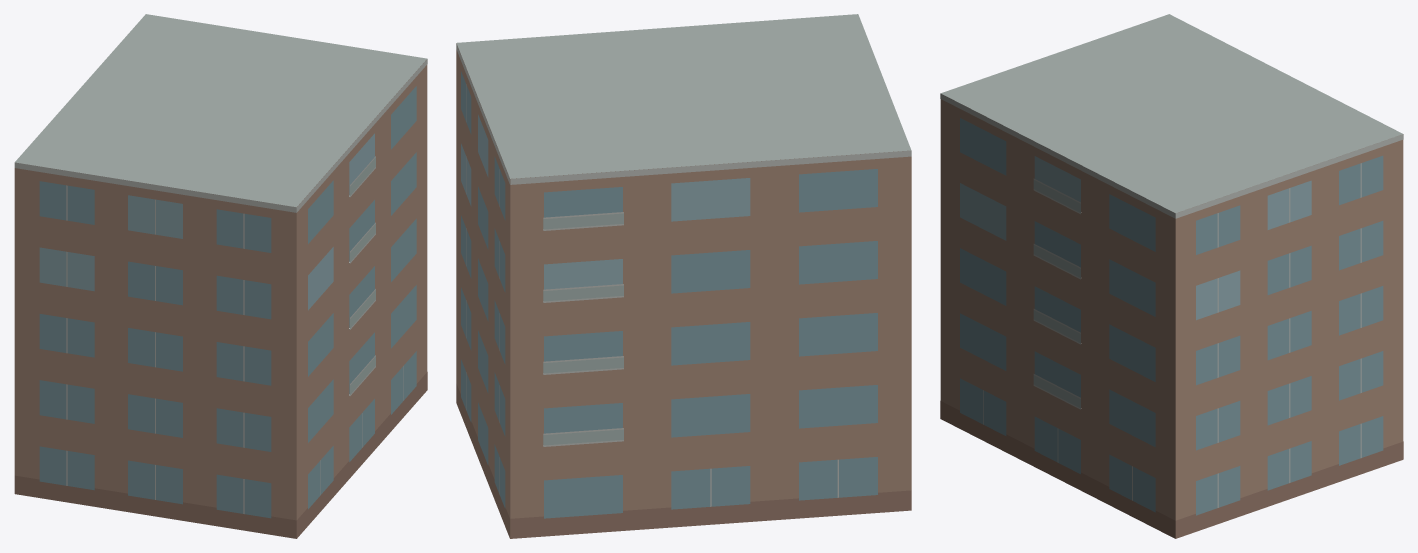
Rendered from survey-upis-32867115.glb.
3 views of the same model, side by side, from view 1: azimuth 30°, elevation 25°; view 2: azimuth 150°, elevation 25°; view 3: azimuth 270°, elevation 25° (orthographic). The views are drawn at different scales.
Parts seen in each view (by area): view 1: survey-upis-32867115.tmp; view 2: survey-upis-32867115.tmp; view 3: survey-upis-32867115.tmp.
Boxes of the visible parts, left/top/right/bottom form: survey-upis-32867115.tmp: left=14, top=14, right=427, bottom=538; survey-upis-32867115.tmp: left=456, top=14, right=911, bottom=538; survey-upis-32867115.tmp: left=940, top=14, right=1403, bottom=538.
Bounding box in the file's own units: 18.98 × 14.45 × 18.63.
